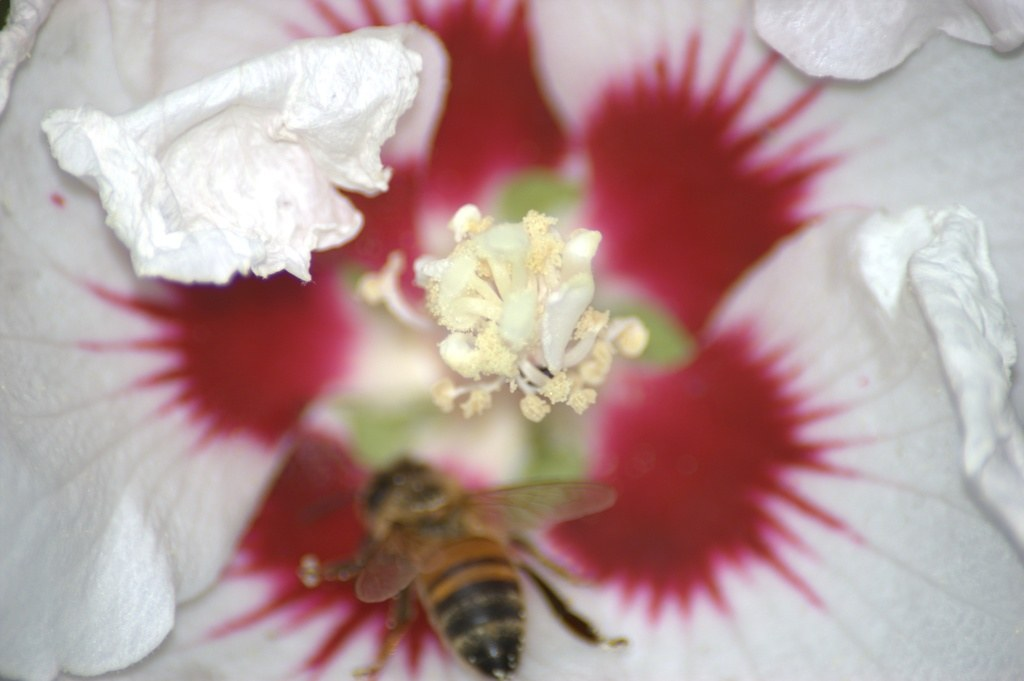bee: (302, 454, 624, 680)
